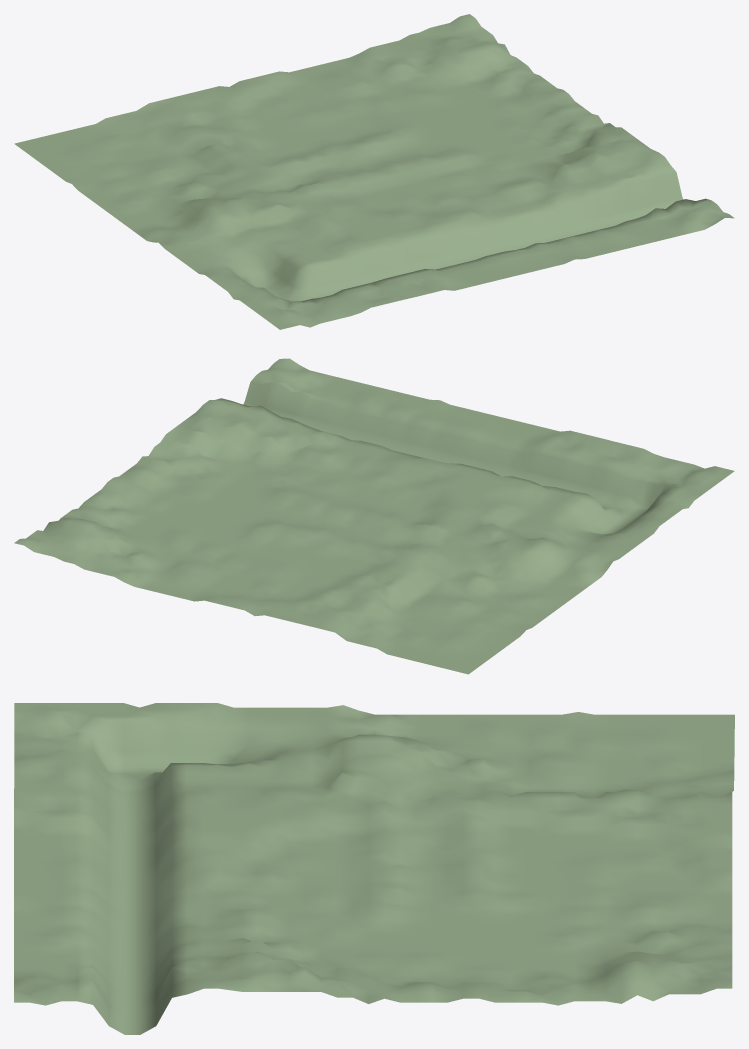
Rendered from escene floor.fbx.
3 views of the same model, one above another, from view 1: azimuth 30°, elevation 25°; view 2: azimuth 150°, elevation 25°; view 3: azimuth 270°, elevation 25° (orthographic). The views are drawn at different scales.
Visible parts, largest first — view 1: Floor; view 2: Floor; view 3: Floor.
Part boxes in pixels (<box>): Floor: <box>14,14,734,329</box>; Floor: <box>14,358,734,674</box>; Floor: <box>14,703,734,1034</box>.
Size of the model in its own units: 34.11 by 2.6 by 34.58.
